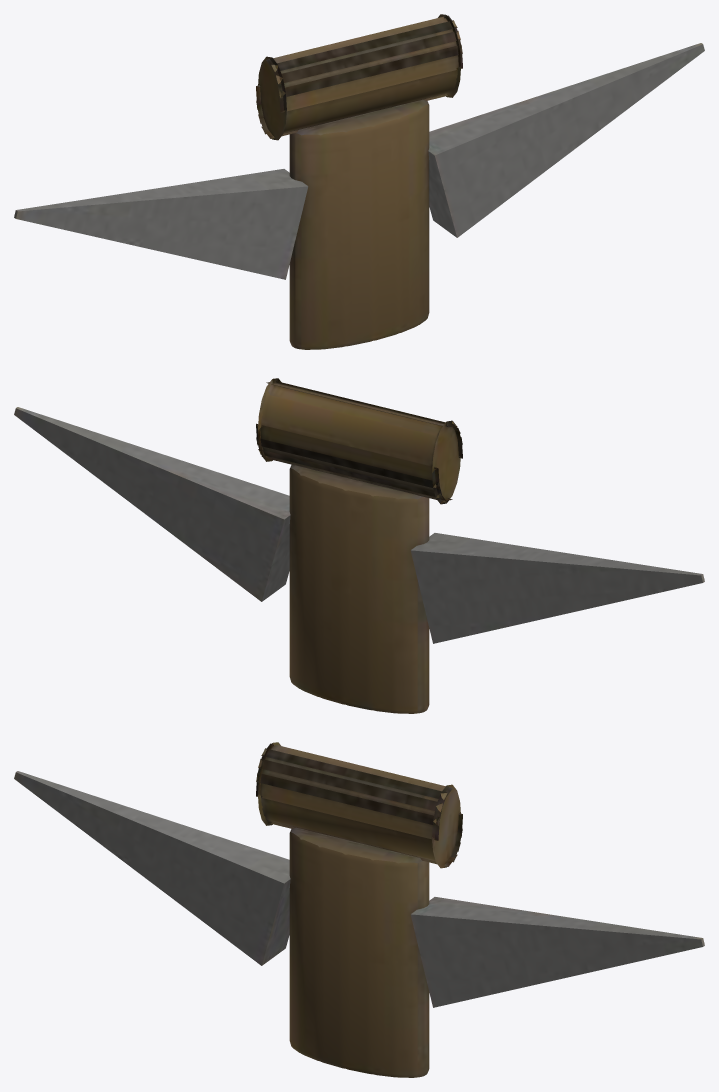
The model's file is defender_house_banner.glb.
The picture shows the model from 3 angles, top to bottom: view 1: azimuth 30°, elevation 25°; view 2: azimuth 150°, elevation 25°; view 3: azimuth 330°, elevation 25°; orthographic projection.
Parts seen in each view (by area): view 1: defender_house_banner; view 2: defender_house_banner; view 3: defender_house_banner.
Boxes of the visible parts, x1,y1,x2,y2 form: defender_house_banner: (14, 14, 704, 349); defender_house_banner: (14, 378, 704, 713); defender_house_banner: (14, 742, 704, 1077).
Bounding box in the file's own units: 0.1978 × 0.0813 × 0.0149.
1 material, 1 textured.
